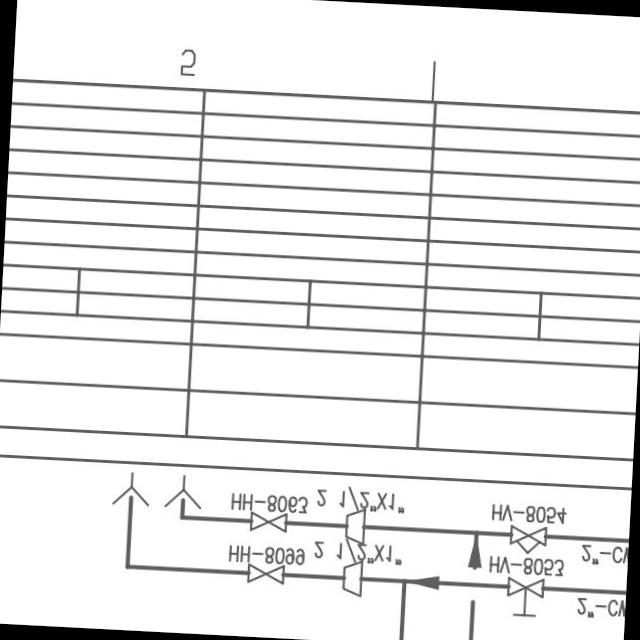GV: (243, 559, 286, 586), (247, 510, 286, 534)
HV: (501, 576, 548, 621)
SP: (340, 558, 367, 600), (342, 507, 368, 546)
